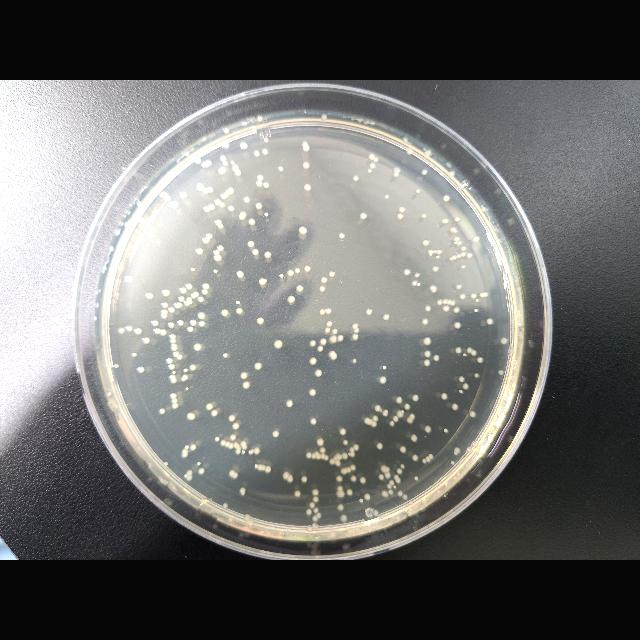colony: (317, 438, 325, 448), (423, 148, 433, 156), (424, 336, 431, 346), (146, 292, 154, 300), (187, 412, 195, 420), (228, 414, 236, 422), (232, 422, 240, 430), (240, 372, 248, 380), (242, 381, 250, 389), (254, 362, 262, 370), (274, 340, 282, 348), (236, 270, 244, 278), (248, 218, 256, 226), (197, 183, 205, 191), (226, 187, 234, 195), (299, 226, 307, 234), (442, 304, 450, 312), (424, 350, 432, 358), (412, 394, 420, 402), (374, 404, 382, 412), (396, 410, 404, 418), (336, 490, 344, 498), (337, 503, 345, 511), (340, 514, 348, 522), (272, 430, 280, 438), (314, 369, 322, 377), (329, 335, 337, 343), (320, 276, 328, 284), (328, 270, 336, 278), (296, 284, 304, 292), (126, 275, 134, 283), (402, 136, 410, 144), (480, 205, 488, 213), (198, 312, 205, 320), (160, 328, 167, 336), (193, 344, 201, 351), (206, 404, 214, 411), (286, 399, 294, 406), (218, 244, 225, 252), (255, 202, 262, 210), (214, 200, 222, 207), (218, 168, 226, 175), (359, 212, 366, 220), (294, 489, 302, 496), (330, 354, 338, 361), (203, 205, 210, 212), (180, 287, 188, 293), (202, 283, 210, 289), (236, 308, 244, 314), (162, 290, 170, 296), (174, 302, 182, 308), (170, 346, 178, 352), (166, 358, 174, 364), (210, 410, 218, 416), (138, 366, 144, 374), (214, 255, 222, 261), (196, 248, 204, 254), (202, 238, 210, 244), (206, 233, 214, 239), (252, 249, 260, 255), (264, 252, 272, 258), (304, 264, 310, 272), (180, 192, 188, 198), (170, 202, 178, 208), (164, 195, 172, 201), (160, 192, 168, 198), (220, 155, 228, 161), (222, 143, 230, 149), (240, 142, 248, 148), (302, 146, 310, 152), (302, 162, 310, 168), (393, 167, 401, 173), (472, 236, 480, 242), (366, 308, 372, 316), (380, 376, 386, 384), (486, 318, 494, 324), (500, 338, 508, 344), (441, 392, 447, 400), (470, 410, 476, 418), (396, 396, 402, 404), (406, 417, 414, 423), (411, 434, 417, 442), (400, 446, 406, 454), (377, 442, 383, 450), (381, 465, 387, 473), (382, 490, 388, 498), (364, 492, 370, 500), (360, 476, 366, 484), (340, 428, 346, 436), (342, 452, 348, 460), (336, 476, 344, 482), (350, 464, 356, 472), (346, 488, 352, 496), (306, 508, 312, 516), (312, 514, 318, 522), (312, 488, 318, 496), (287, 475, 293, 483), (284, 471, 290, 479), (320, 452, 326, 460), (310, 388, 316, 396), (310, 340, 316, 348), (320, 338, 326, 346), (338, 334, 344, 342), (329, 350, 335, 358), (287, 296, 295, 302), (244, 514, 252, 520), (140, 217, 146, 225), (138, 200, 144, 208), (115, 228, 121, 236), (510, 360, 518, 366), (466, 447, 474, 453), (185, 284, 192, 290), (178, 320, 185, 326), (170, 374, 177, 380), (230, 434, 236, 441), (213, 249, 220, 255), (248, 241, 255, 247), (215, 220, 222, 226), (228, 205, 235, 211), (243, 197, 250, 203), (304, 183, 310, 190), (423, 240, 429, 247), (404, 269, 411, 275), (424, 359, 430, 366), (352, 334, 358, 341), (452, 404, 458, 411), (404, 404, 410, 411), (378, 474, 384, 481), (402, 494, 408, 501), (319, 286, 326, 292), (229, 469, 235, 476), (373, 509, 379, 516), (118, 328, 125, 334), (501, 399, 507, 406), (198, 296, 204, 302), (202, 289, 208, 295), (222, 310, 228, 316), (199, 321, 205, 327), (190, 320, 196, 326), (187, 326, 193, 332), (168, 322, 174, 328), (154, 328, 160, 334), (152, 320, 158, 326), (169, 307, 175, 313), (162, 302, 168, 308), (184, 300, 190, 306), (186, 296, 192, 302), (178, 296, 184, 302), (170, 334, 176, 340), (173, 351, 179, 357), (177, 354, 183, 360), (169, 364, 175, 370), (171, 378, 177, 384), (190, 364, 196, 370), (183, 374, 189, 380), (170, 393, 176, 399), (172, 398, 178, 404), (159, 408, 165, 414), (214, 436, 220, 442), (222, 352, 228, 358), (144, 338, 150, 344), (136, 328, 142, 334), (259, 279, 265, 285), (288, 270, 294, 276), (239, 214, 245, 220), (220, 202, 226, 208), (209, 204, 215, 210), (203, 188, 209, 194), (195, 158, 201, 164), (202, 161, 208, 167), (207, 160, 213, 166), (233, 165, 239, 171), (254, 150, 260, 156), (262, 149, 268, 155), (235, 170, 241, 176), (257, 175, 263, 181), (220, 193, 226, 199), (224, 192, 230, 198), (256, 181, 262, 187), (263, 182, 269, 188), (278, 166, 284, 172), (224, 128, 230, 134), (370, 163, 376, 169), (369, 154, 375, 160), (339, 233, 345, 239), (406, 149, 412, 155), (422, 169, 428, 175), (399, 207, 405, 213), (397, 214, 403, 220), (443, 195, 449, 201), (442, 218, 448, 224), (414, 272, 420, 278), (412, 280, 418, 286), (432, 266, 438, 272), (452, 255, 458, 261), (466, 252, 472, 258), (461, 245, 467, 251), (457, 240, 463, 246), (456, 284, 462, 290), (431, 287, 437, 293), (429, 284, 435, 290), (471, 292, 477, 298), (454, 307, 460, 313), (425, 305, 431, 311), (422, 318, 428, 324), (455, 347, 461, 353), (455, 322, 461, 328), (383, 314, 389, 320), (352, 323, 358, 329), (446, 299, 452, 305), (442, 298, 448, 304), (437, 299, 443, 305), (466, 347, 472, 353), (471, 350, 477, 356), (477, 357, 483, 363), (459, 376, 465, 382), (463, 383, 469, 389), (409, 413, 415, 419), (425, 426, 431, 432), (372, 415, 378, 421), (393, 416, 399, 422), (382, 410, 388, 416), (364, 418, 370, 424), (412, 454, 418, 460), (428, 453, 434, 459), (454, 447, 460, 453), (389, 479, 395, 485), (385, 472, 391, 478), (388, 489, 394, 495), (449, 171, 455, 177), (350, 451, 356, 457), (329, 458, 335, 464), (335, 460, 341, 466), (340, 468, 346, 474), (351, 476, 357, 482), (316, 512, 322, 518), (313, 496, 319, 502), (301, 476, 307, 482), (306, 452, 312, 458), (314, 450, 320, 456), (320, 447, 326, 453), (310, 418, 316, 424), (310, 358, 316, 364), (317, 346, 323, 352), (326, 321, 332, 327), (332, 328, 338, 334), (319, 309, 325, 315), (326, 308, 332, 314), (258, 318, 264, 324), (239, 487, 245, 493), (232, 472, 238, 478), (265, 466, 271, 472), (254, 448, 260, 454), (242, 444, 248, 450), (241, 440, 247, 446), (228, 443, 234, 449), (330, 531, 336, 537), (346, 528, 352, 534), (223, 502, 229, 508), (248, 520, 254, 526), (132, 352, 138, 358), (126, 326, 132, 332), (149, 233, 155, 239), (124, 222, 130, 228), (190, 444, 196, 450), (199, 468, 205, 474), (184, 151, 190, 157), (321, 114, 327, 120), (241, 121, 247, 127), (358, 118, 364, 124), (350, 116, 356, 122), (446, 162, 452, 168), (461, 178, 467, 184), (508, 348, 514, 354), (508, 386, 514, 392), (312, 522, 318, 528), (314, 525, 320, 531), (307, 526, 313, 532), (182, 452, 188, 458), (426, 250, 434, 254), (398, 490, 402, 498), (354, 444, 358, 452), (348, 466, 352, 474), (472, 440, 476, 448), (170, 339, 177, 343), (222, 439, 226, 446), (190, 294, 196, 298), (193, 292, 199, 296), (161, 314, 167, 318), (162, 310, 168, 314), (172, 404, 178, 408), (218, 224, 224, 228), (241, 212, 247, 216), (208, 187, 212, 193), (202, 136, 206, 142), (302, 142, 308, 146), (354, 175, 358, 181), (368, 168, 372, 174), (416, 188, 420, 194), (454, 218, 460, 222), (450, 228, 456, 232), (449, 256, 453, 262), (454, 237, 460, 241), (460, 294, 464, 300), (480, 292, 484, 298), (484, 292, 488, 298), (434, 355, 438, 361), (354, 328, 358, 334), (451, 300, 455, 306), (498, 370, 504, 374), (475, 372, 479, 378), (352, 358, 356, 364), (390, 420, 394, 426), (426, 456, 430, 462), (398, 468, 402, 474), (396, 477, 400, 483), (386, 466, 390, 472), (350, 446, 354, 452), (337, 486, 343, 490), (314, 507, 318, 513), (310, 502, 314, 508), (312, 453, 316, 459), (316, 453, 320, 459), (325, 455, 329, 461), (324, 328, 330, 332), (258, 464, 262, 470), (262, 465, 266, 471), (234, 442, 238, 448), (226, 441, 230, 447), (356, 526, 360, 532), (108, 390, 112, 396), (130, 219, 134, 225), (110, 245, 114, 251), (98, 288, 102, 294), (188, 470, 192, 476), (187, 476, 193, 480), (258, 116, 262, 122), (364, 120, 370, 124), (370, 122, 376, 126), (182, 449, 188, 453), (236, 446, 242, 449), (214, 269, 218, 273), (236, 301, 240, 305), (184, 368, 188, 372), (279, 274, 283, 278), (296, 268, 300, 272), (265, 213, 269, 217), (224, 162, 228, 166), (264, 138, 268, 142), (374, 158, 378, 162), (385, 195, 389, 199), (394, 173, 398, 177), (422, 214, 426, 218), (433, 250, 437, 254), (438, 250, 442, 254), (457, 254, 461, 258), (462, 252, 466, 256), (474, 308, 478, 312), (444, 428, 448, 432), (372, 422, 376, 426), (368, 420, 372, 424), (422, 459, 426, 463), (401, 464, 405, 468), (394, 475, 398, 479), (388, 484, 392, 488), (359, 498, 363, 502), (344, 440, 348, 444), (334, 456, 338, 460), (250, 450, 254, 454), (236, 450, 240, 454), (236, 444, 240, 448), (352, 528, 356, 532), (115, 364, 119, 368), (103, 266, 107, 270), (94, 316, 98, 320), (164, 462, 168, 466), (185, 445, 189, 449), (229, 518, 233, 522), (267, 530, 271, 534), (293, 534, 297, 538), (171, 344, 177, 346), (414, 476, 418, 479), (346, 467, 348, 473), (255, 464, 258, 468), (242, 450, 245, 454), (122, 223, 125, 227), (97, 302, 99, 308), (185, 474, 188, 478), (172, 371, 175, 374), (192, 268, 194, 272), (181, 378, 185, 380), (265, 278, 267, 282), (231, 162, 235, 164), (418, 282, 420, 286), (384, 366, 386, 370), (380, 408, 382, 412), (454, 452, 458, 454), (349, 452, 351, 456), (325, 309, 327, 313), (128, 212, 130, 216), (124, 214, 126, 218), (102, 270, 104, 274), (197, 462, 201, 464), (454, 476, 456, 480), (410, 502, 414, 504), (411, 504, 413, 508), (430, 252, 432, 255), (436, 256, 439, 258), (460, 391, 462, 394), (190, 301, 192, 303), (186, 388, 188, 390), (455, 231, 457, 233), (454, 242, 456, 244), (462, 266, 464, 268), (476, 300, 478, 302), (464, 354, 466, 356), (402, 410, 404, 412), (386, 410, 388, 412), (452, 462, 454, 464), (394, 486, 396, 488), (242, 492, 244, 494), (380, 516, 382, 518)
